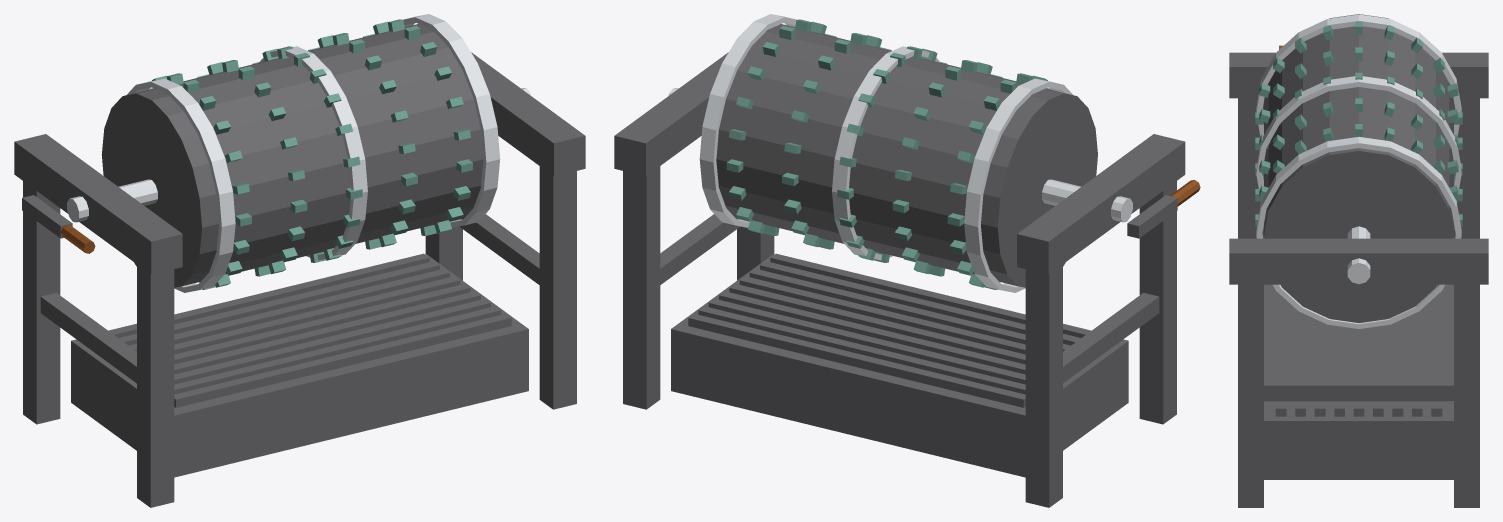
File: distillery-and-bonded-warehouse-charring-drum-0f3f8b14__38702.glb
3 renders of one model, left to right at view 1: azimuth 30°, elevation 25°; view 2: azimuth 150°, elevation 25°; view 3: azimuth 270°, elevation 25°, orthographic. The views are drawn at different scales.
Visible parts, largest first — view 1: charring-drum-iron, drum/iron, drum/steel, drum/paint; view 2: charring-drum-iron, drum/iron, drum/steel, drum/paint; view 3: charring-drum-iron, drum/iron, drum/steel, drum/paint.
Boxes of the visible parts, left/top/right/bottom form: charring-drum-iron: left=14, top=52, right=585, bottom=507; drum/iron: left=22, top=24, right=483, bottom=287; drum/steel: left=67, top=14, right=531, bottom=292; drum/paint: left=149, top=19, right=472, bottom=289; charring-drum-iron: left=614, top=52, right=1185, bottom=507; drum/iron: left=716, top=24, right=1177, bottom=287; drum/steel: left=668, top=14, right=1132, bottom=292; drum/paint: left=726, top=19, right=1050, bottom=289; charring-drum-iron: left=1229, top=52, right=1488, bottom=507; drum/iron: left=1264, top=14, right=1453, bottom=322; drum/steel: left=1256, top=14, right=1461, bottom=328; drum/paint: left=1255, top=21, right=1462, bottom=229.
Bounding box in the file's own units: 2.46 × 1.71 × 1.2.
Materials: 4 (1 with a texture image).
